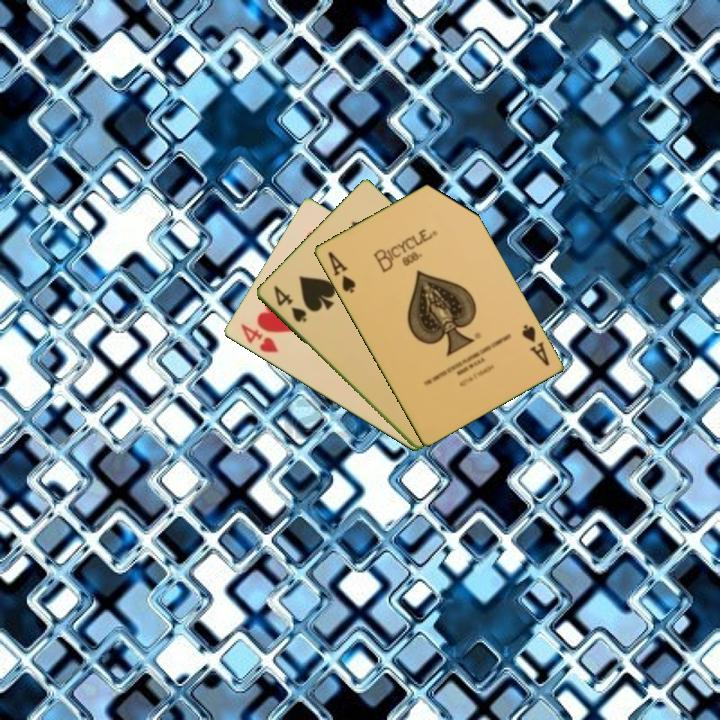4h: (237, 320, 281, 356)
4s: (270, 282, 309, 325)
As: (518, 320, 552, 369), (324, 248, 358, 296)
